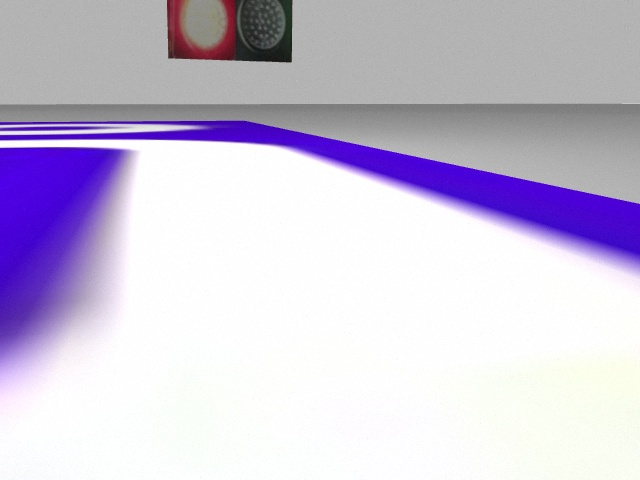red: (167, 1, 234, 62)
